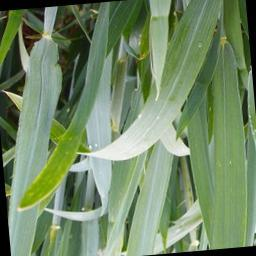Wheat: (131, 35, 208, 135), (8, 87, 60, 214), (211, 77, 245, 250)
